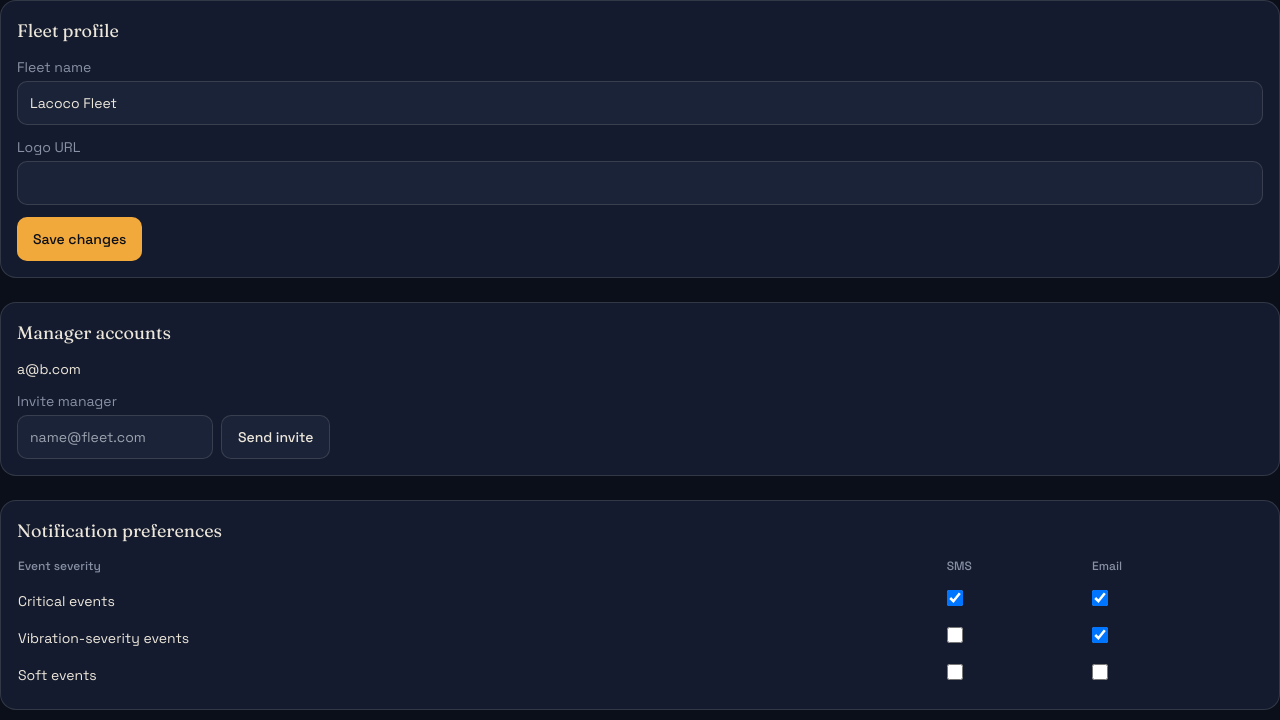
SettingsClient › composes fleet profile, manager list, and notification prefs panels
Expected: the field labelled "Fleet name" holds "Lacoco Fleet", [17,81,1263,125]
Expected: the list item "a@b.com" is shown, [17,360,81,378]
# Exercises the (no-op, in this build) onSave handler wired to the form.
Click the button "Save changes" at (80, 239), box [17,217,142,261]
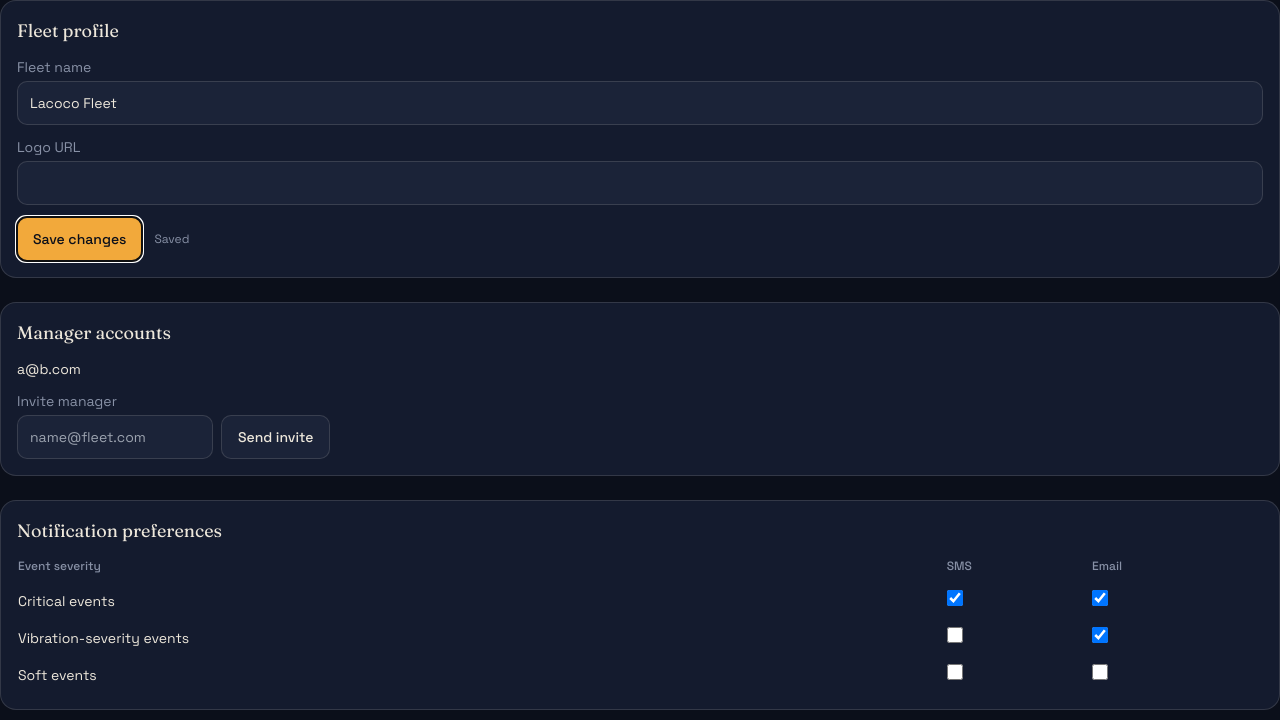
Now the text "Saved" is shown, box [154,231,189,247]
